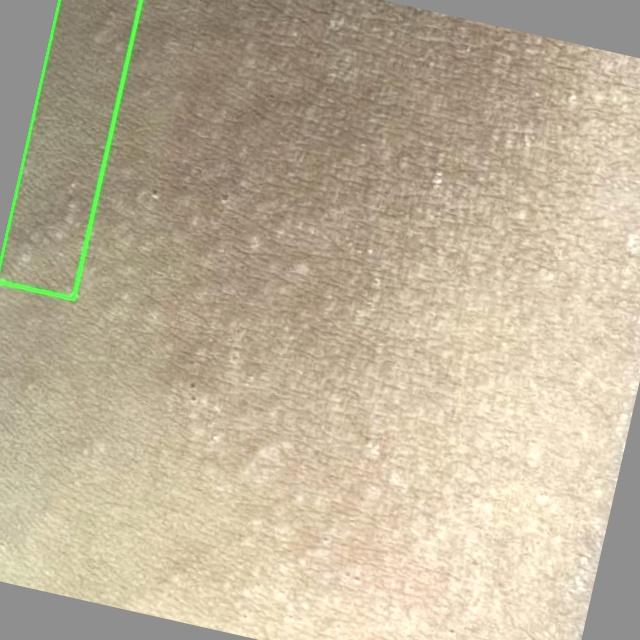Contact Dermatitis: (0, 0, 142, 299)
